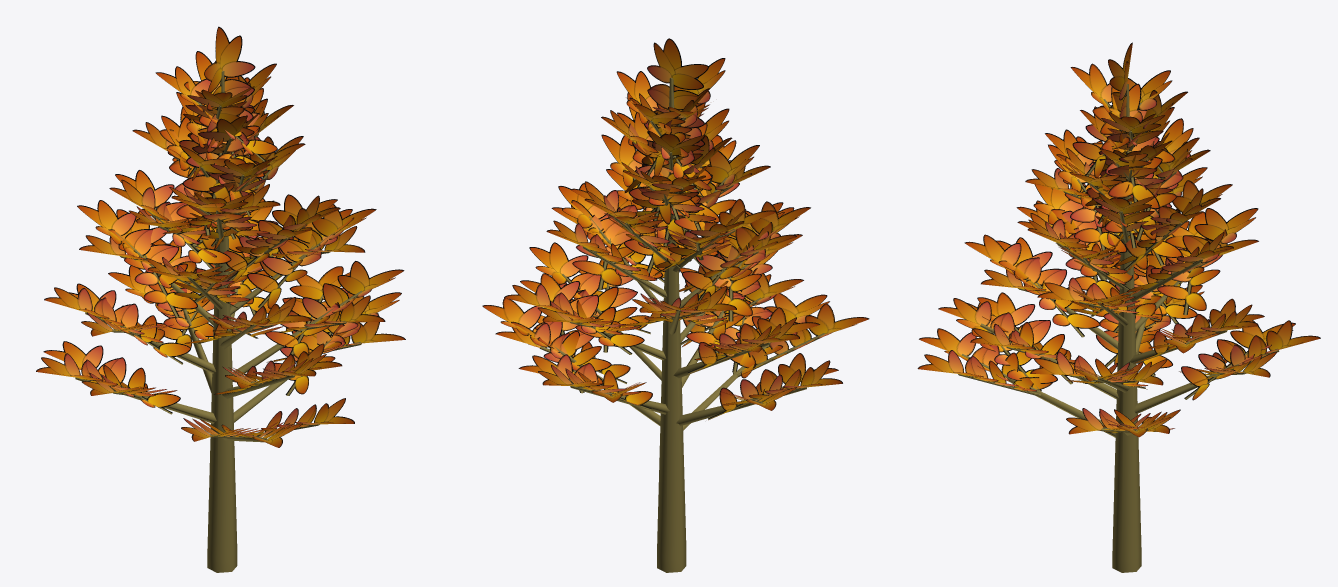
Rendered from poplar-orange.gltf.
The picture shows the model from 3 angles, left to right: view 1: azimuth 30°, elevation 25°; view 2: azimuth 150°, elevation 25°; view 3: azimuth 270°, elevation 25°; orthographic projection. The views are drawn at different scales.
Parts seen in each view (by area): view 1: leaves, bark; view 2: leaves, bark; view 3: leaves, bark.
Part boxes in pixels (x1,y1,x2,y2): leaves: (36, 26, 405, 447); bark: (75, 71, 362, 572); leaves: (482, 38, 869, 420); bark: (539, 78, 824, 572); leaves: (917, 42, 1320, 437); bark: (958, 84, 1279, 572).
Size of the model in its own units: 2.26 by 3.14 by 2.28.
2 materials, 1 textured.
